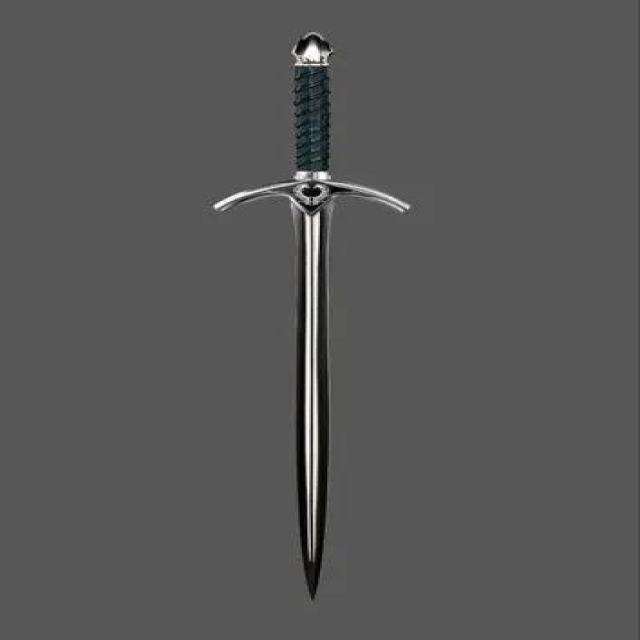weapon: (212, 29, 420, 596)
